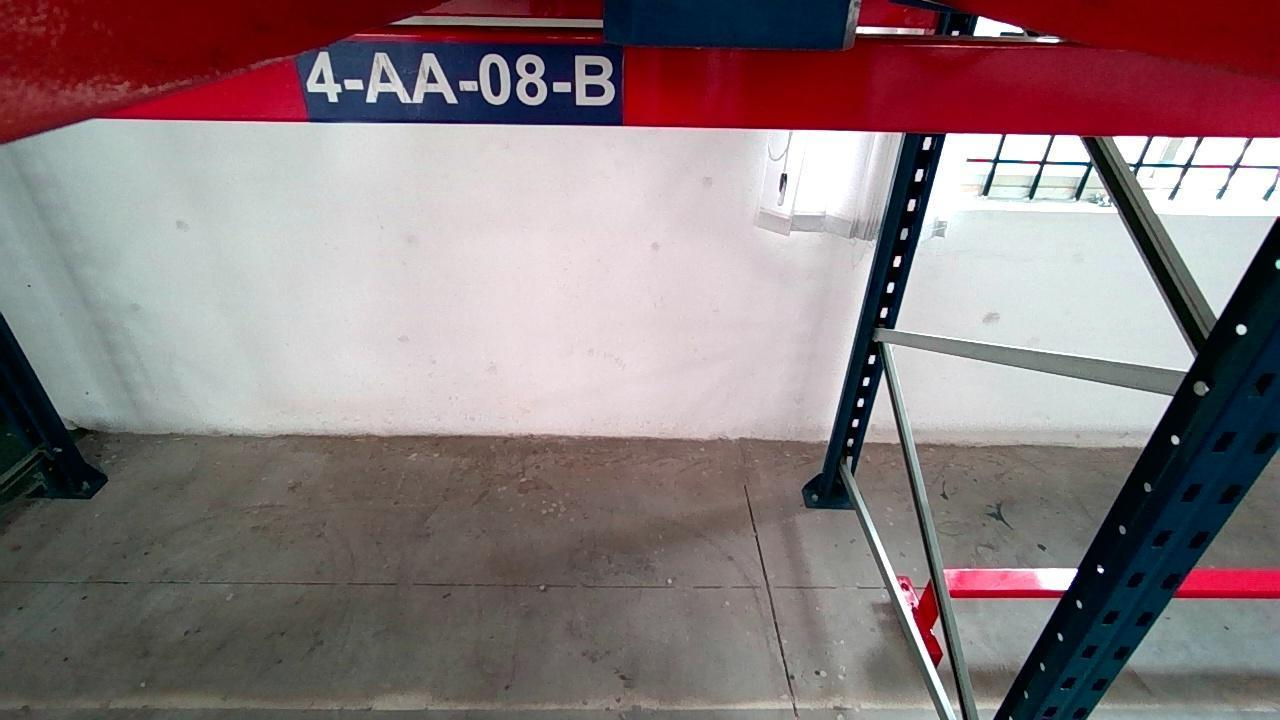h_rack: (95, 32, 1276, 134)
